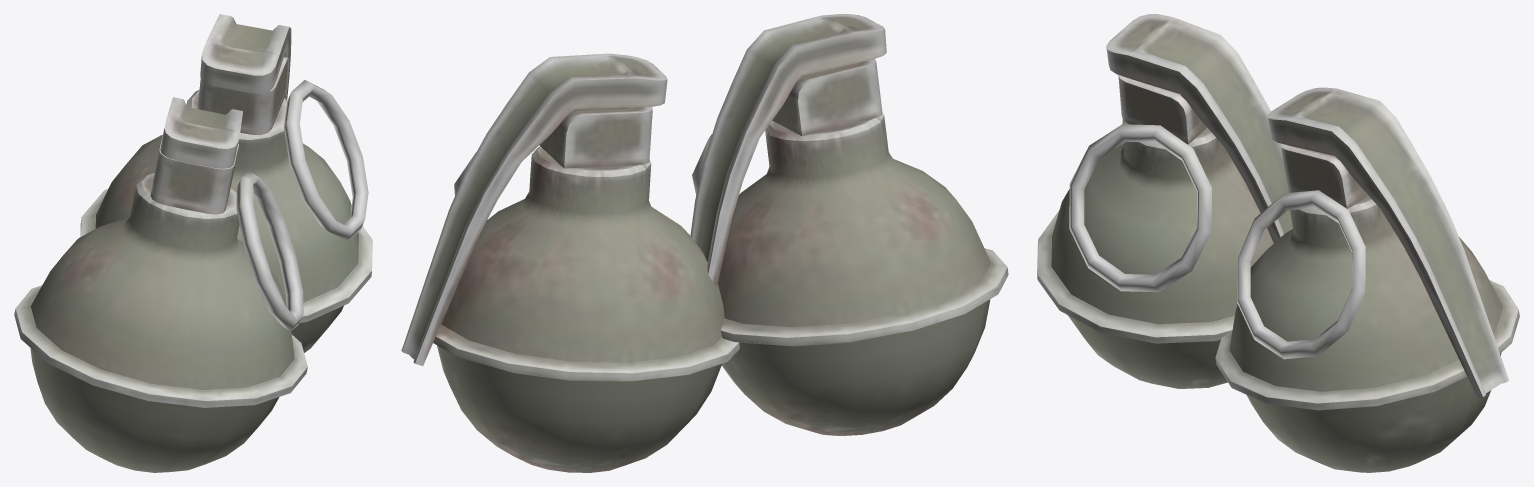
The model's file is ARM1_Cloth_MA01.glb.
3 renders of one model, left to right at view 1: azimuth 30°, elevation 25°; view 2: azimuth 150°, elevation 25°; view 3: azimuth 270°, elevation 25°, orthographic. The views are drawn at different scales.
Parts seen in each view (by area): view 1: ARM1_Cloth_MA01; view 2: ARM1_Cloth_MA01; view 3: ARM1_Cloth_MA01.
Part boxes in pixels (bbox=[...]): ARM1_Cloth_MA01: bbox=[14, 14, 372, 472]; ARM1_Cloth_MA01: bbox=[401, 14, 1008, 472]; ARM1_Cloth_MA01: bbox=[1037, 14, 1519, 472].
Size of the model in its own units: 0.3243 by 0.27 by 0.3231.
1 material, 1 textured.
